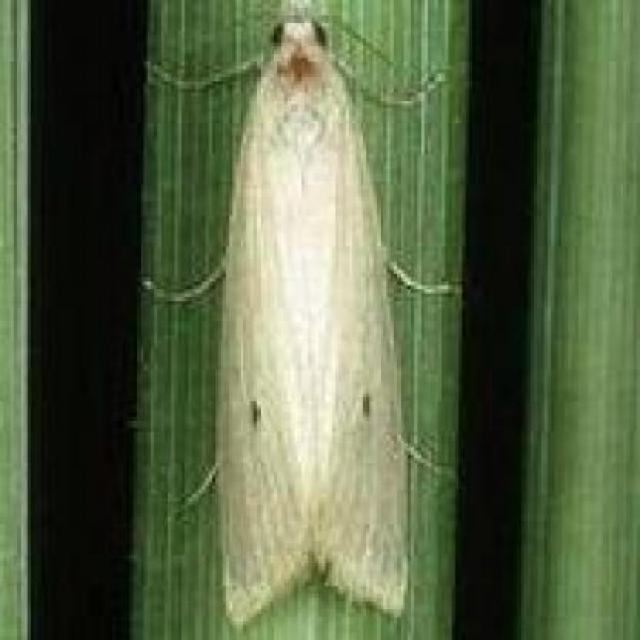stem-borer: (177, 0, 426, 640)
